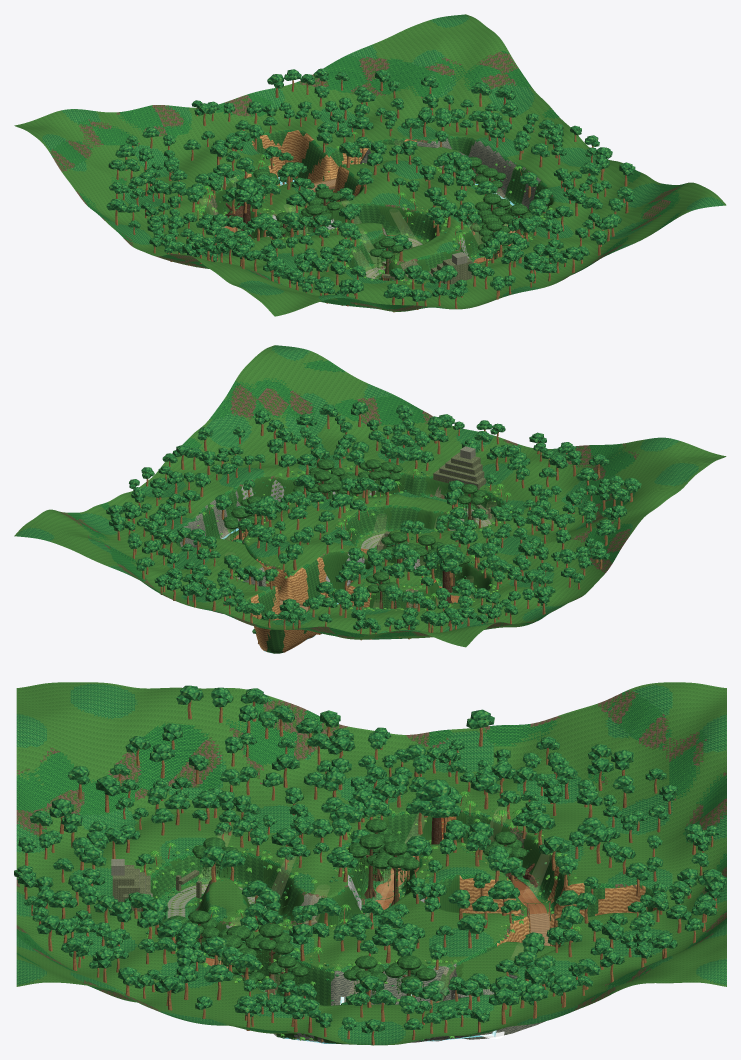
3 views of the same model, one above another, from view 1: azimuth 30°, elevation 25°; view 2: azimuth 150°, elevation 25°; view 3: azimuth 270°, elevation 25° (orthographic). The views are drawn at different scales.
Parts seen in each view (by area): view 1: Rainforest, Falls Cave Rock, Giant Tree 1.004, Giant Tree 2.001, Giant Tree 2.005; view 2: Rainforest, Falls Cave Rock, Giant Tree 2.001, Giant Tree 2.003, Giant Tree 1.004, Giant Tree 1.002, Giant Tree 2; view 3: Rainforest, Falls Cave Rock, Giant Tree 2.005, Giant Tree 2.001, Giant Tree 1.003, Giant Tree 1.002, Giant Tree 2.002, Giant Tree 1.001, Giant Tree 2.003, Jungle Tree 0, Giant Tree 2, Giant Tree 2.004 (+1 smaller).
Boxes of the visible parts, left/top/right/bottom form: Rainforest: left=14, top=14, right=726, bottom=316; Falls Cave Rock: left=360, top=144, right=474, bottom=184; Giant Tree 1.004: left=369, top=238, right=403, bottom=280; Giant Tree 2.001: left=475, top=193, right=510, bottom=217; Giant Tree 2.005: left=307, top=188, right=341, bottom=226; Rainforest: left=14, top=345, right=726, bottom=653; Falls Cave Rock: left=193, top=538, right=266, bottom=613; Giant Tree 2.001: left=306, top=470, right=341, bottom=498; Giant Tree 2.003: left=366, top=571, right=398, bottom=608; Giant Tree 1.004: left=457, top=484, right=485, bottom=519; Giant Tree 1.002: left=223, top=507, right=259, bottom=539; Giant Tree 2: left=358, top=459, right=390, bottom=496; Rainforest: left=16, top=682, right=726, bottom=1045; Falls Cave Rock: left=443, top=941, right=555, bottom=1039; Giant Tree 2.005: left=371, top=840, right=420, bottom=906; Giant Tree 2.001: left=245, top=923, right=294, bottom=994; Giant Tree 1.003: left=348, top=834, right=385, bottom=898; Giant Tree 1.002: left=385, top=955, right=436, bottom=1000; Giant Tree 2.002: left=343, top=955, right=387, bottom=994; Giant Tree 1.001: left=266, top=956, right=308, bottom=996; Giant Tree 2.003: left=483, top=831, right=527, bottom=877; Jungle Tree 0: left=417, top=779, right=451, bottom=805; Giant Tree 2: left=188, top=910, right=219, bottom=957; Giant Tree 2.004: left=364, top=819, right=398, bottom=881.
Size of the model in its own units: 526 by 117 by 526.
Materials: 44 (44 with a texture image).
